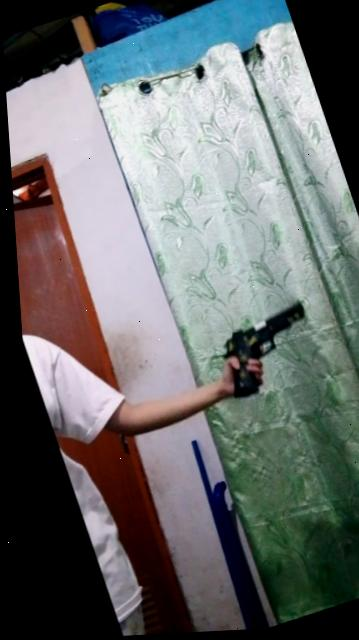pistol: (193, 287, 330, 411)
